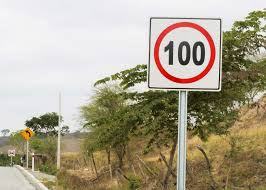Speed_limit_100km: (154, 22, 216, 84)
